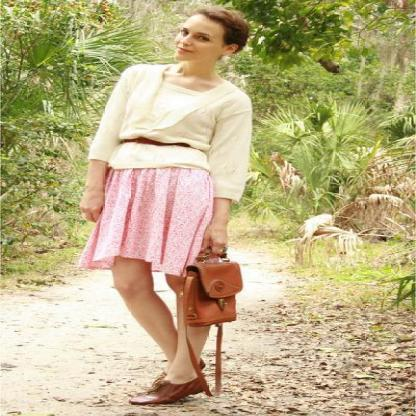bag: (166, 245, 242, 324)
shirt: (84, 63, 260, 201)
shoe: (145, 376, 213, 404)
skirt: (94, 162, 218, 280)
